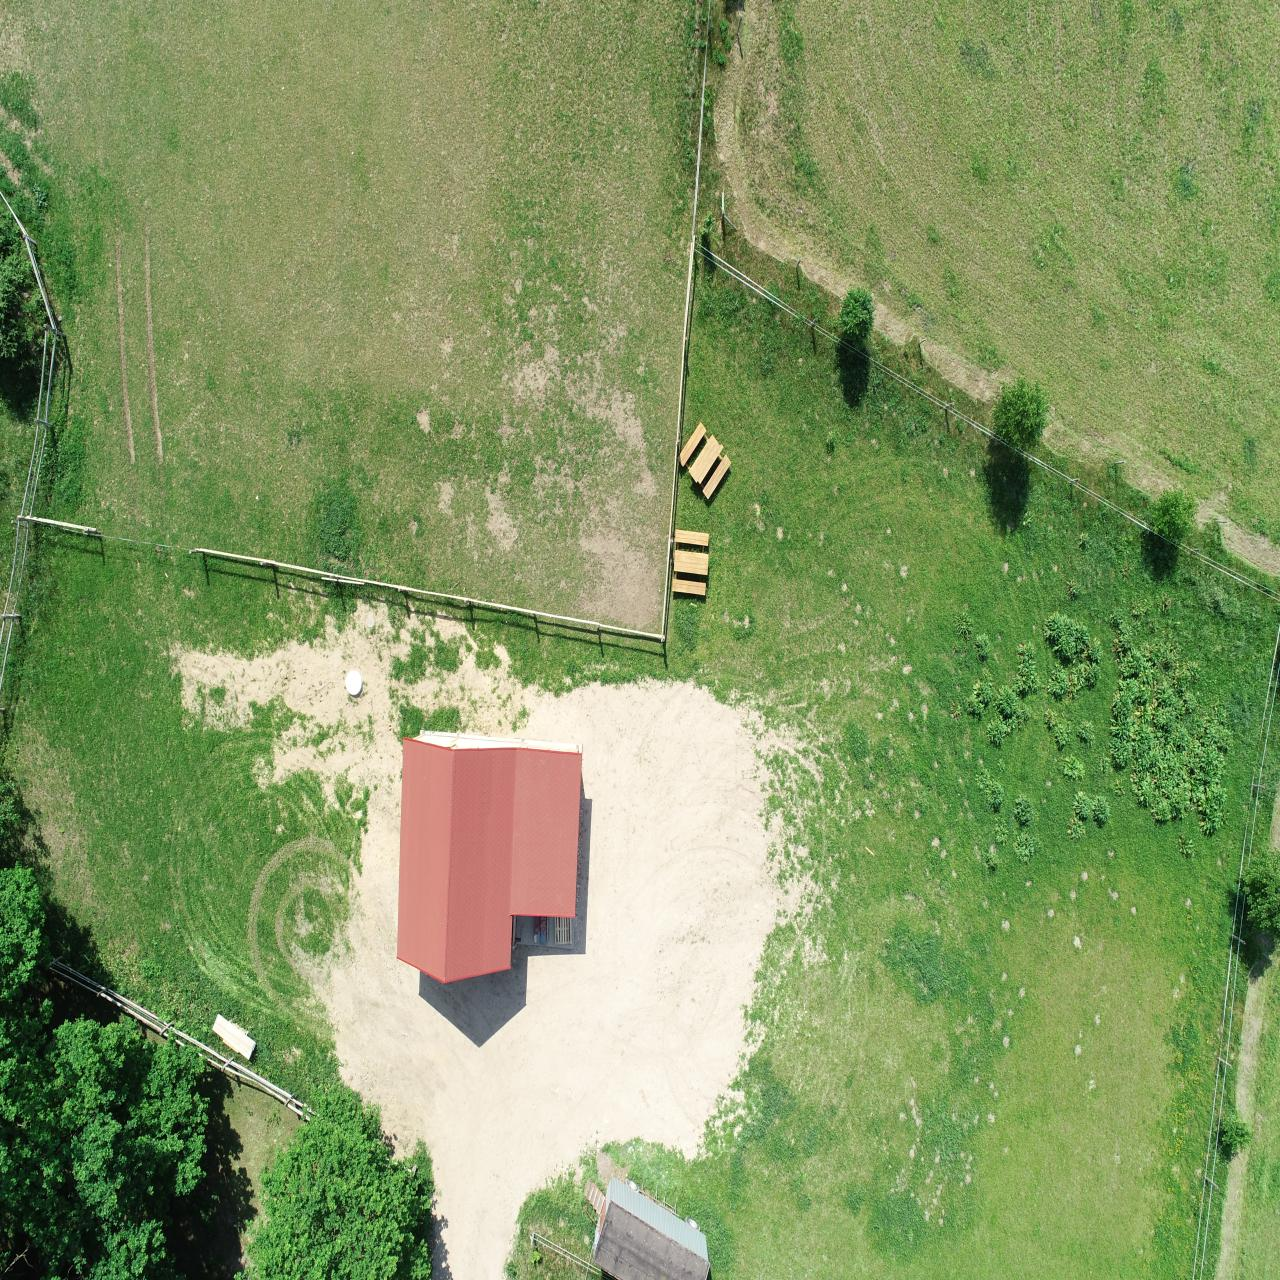cow: (13, 551, 32, 607)
